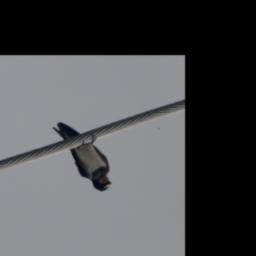Swallow: (51, 112, 117, 200)
